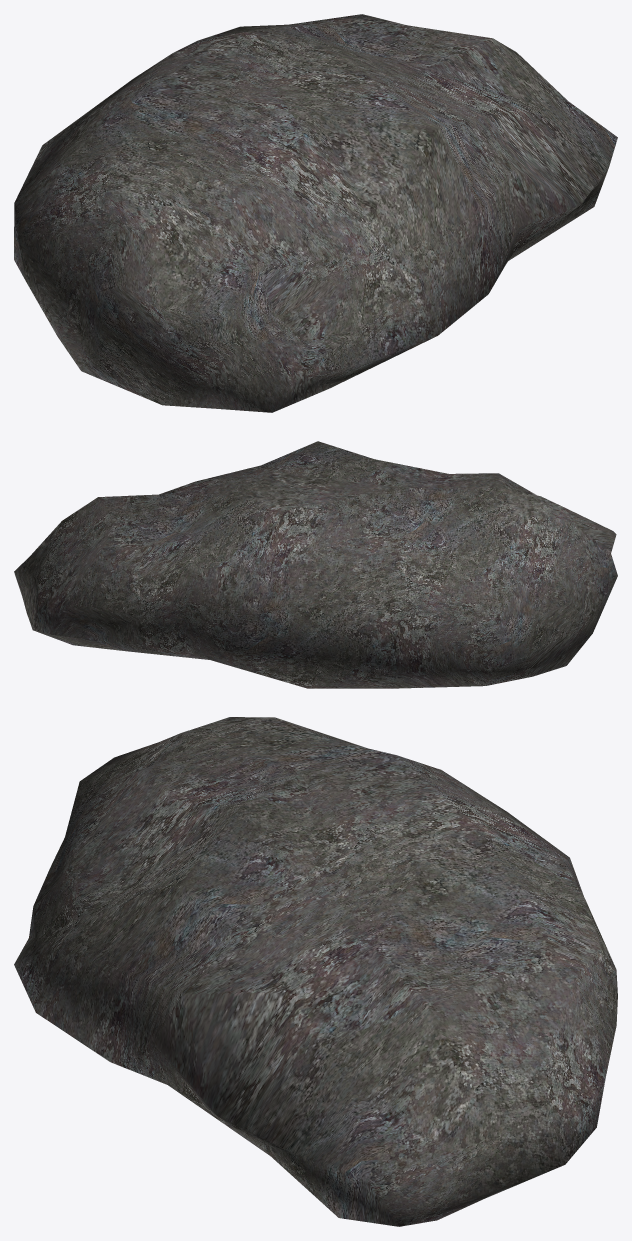
Rendered from rock_forestriverrock_lg_l0.fbx.
The picture shows the model from 3 angles, top to bottom: view 1: azimuth 30°, elevation 25°; view 2: azimuth 150°, elevation 25°; view 3: azimuth 270°, elevation 25°; orthographic projection. The views are drawn at different scales.
Parts seen in each view (by area): view 1: mesh_node; view 2: mesh_node; view 3: mesh_node.
Boxes of the visible parts, <box> form: mesh_node: <box>14,14,617,412</box>; mesh_node: <box>14,441,617,688</box>; mesh_node: <box>14,717,617,1226</box>.
Bounding box in the file's own units: 3.52 × 1.18 × 2.62.
Materials: 1 (1 with a texture image).
